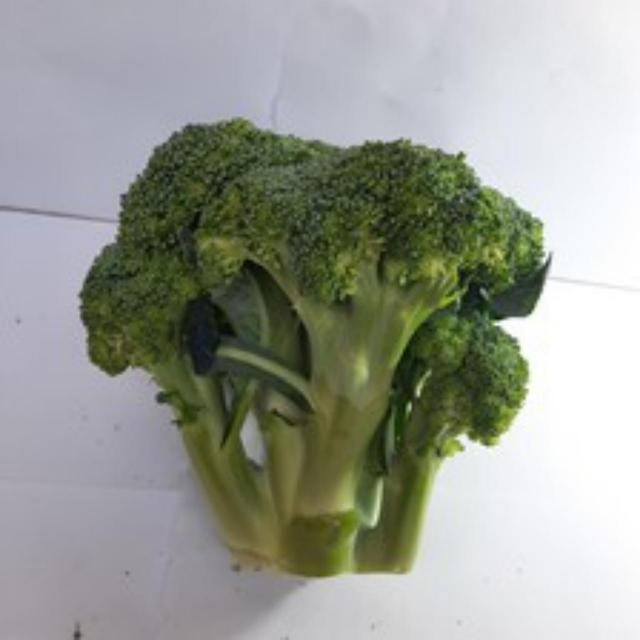broccoli: (78, 120, 556, 580)
